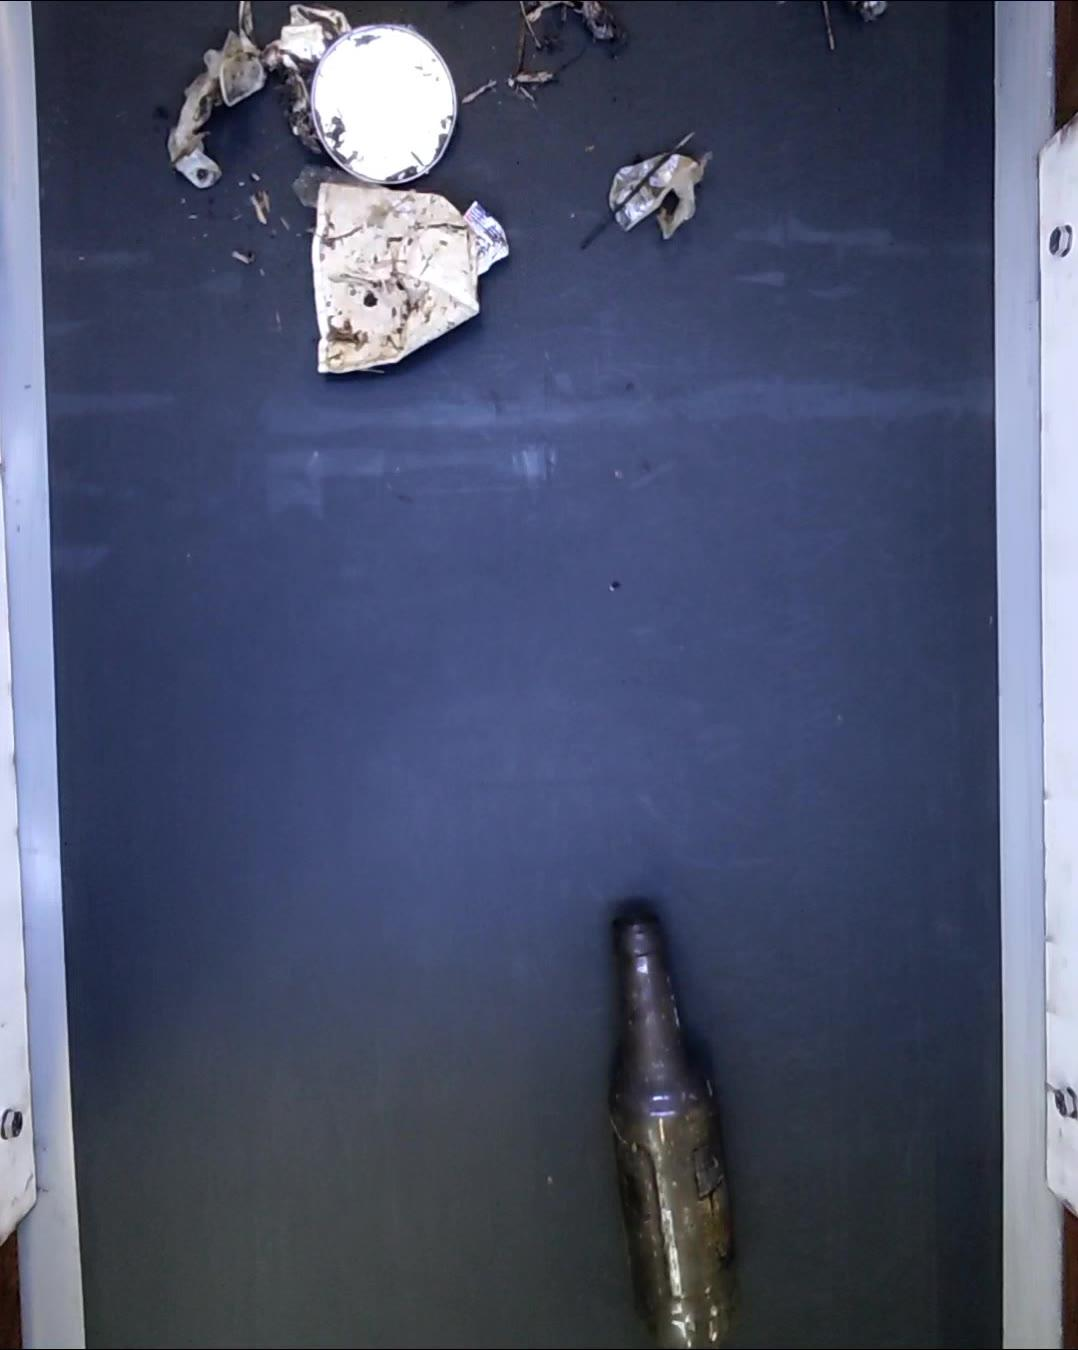Plastic folies of stukken daarvan 2.5- 50 cm: (168, 0, 260, 193), (607, 149, 715, 239), (283, 163, 393, 207)
Snoep snack en chips verpakkingen: (460, 197, 516, 276)
